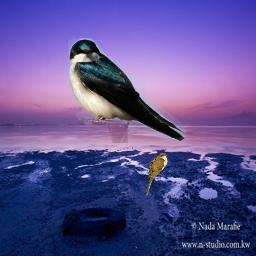Cuckoo: (145, 153, 168, 196)
Swallow: (68, 38, 186, 143)
